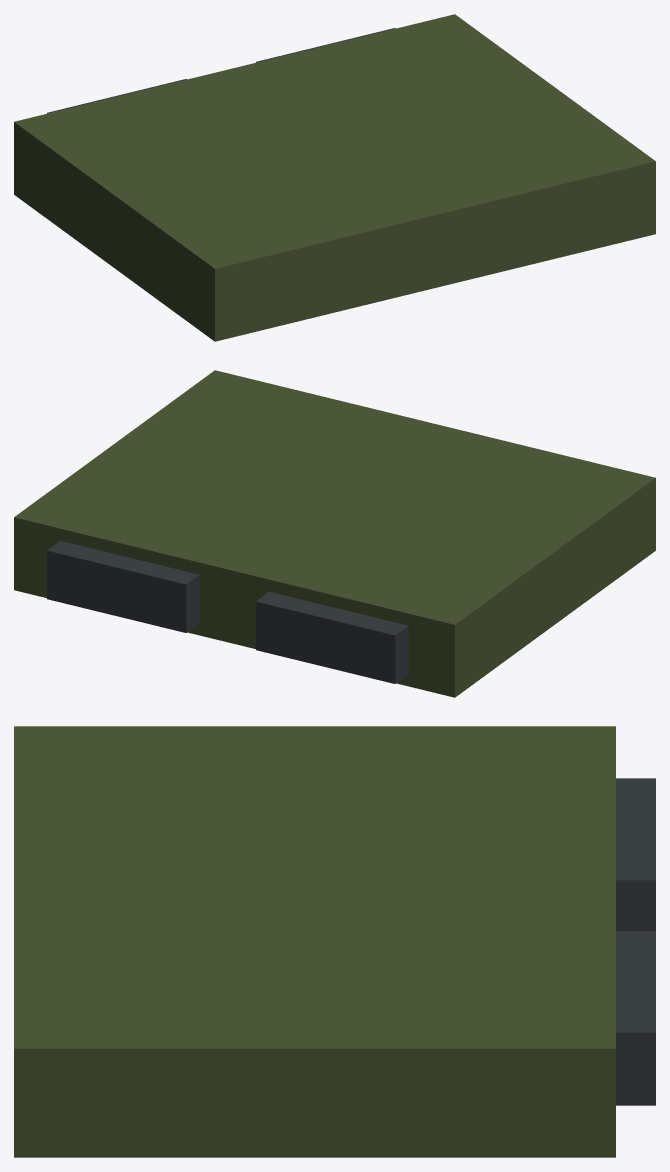
File: utility_vest.glb
3 renders of one model, top to bottom at view 1: azimuth 30°, elevation 25°; view 2: azimuth 150°, elevation 25°; view 3: azimuth 270°, elevation 25°, orthographic. The views are drawn at different scales.
Parts seen in each view (by area): view 1: utility_vest:folded-garment; view 2: utility_vest:folded-garment; view 3: utility_vest:folded-garment.
Part boxes in pixels (left/top/right/bottom): utility_vest:folded-garment: left=14, top=14, right=655, bottom=341; utility_vest:folded-garment: left=14, top=370, right=655, bottom=697; utility_vest:folded-garment: left=14, top=726, right=655, bottom=1157.
Bounding box in the file's own units: 0.38 × 0.06 × 0.32.
